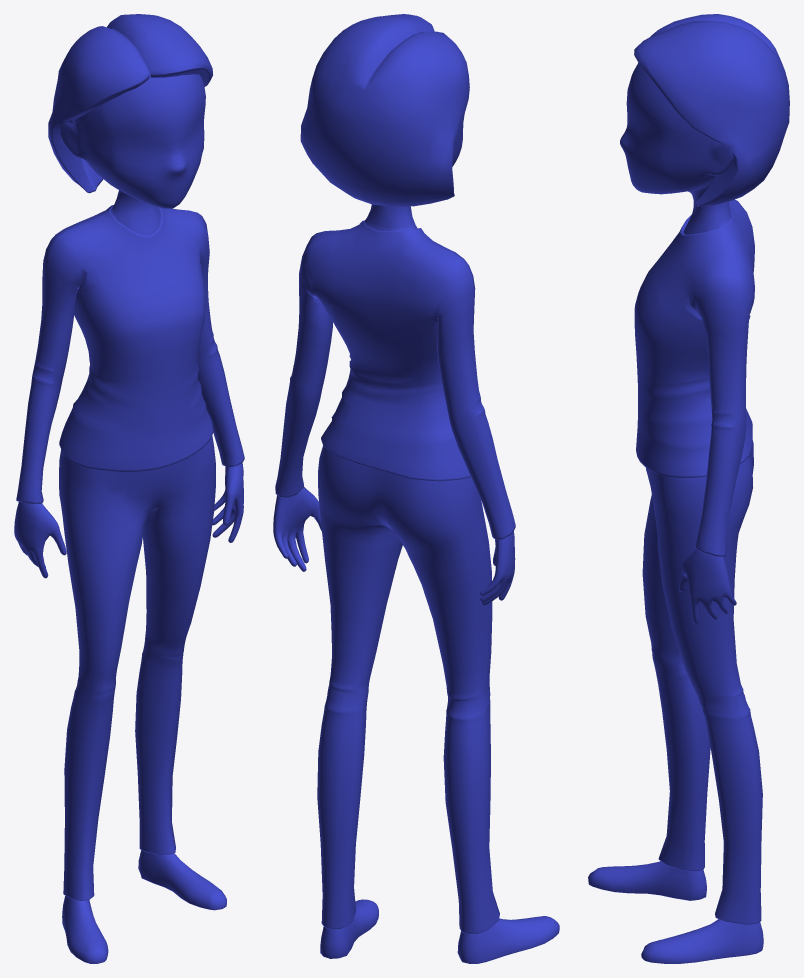
File: Human.fbx
3 renders of one model, left to right at view 1: azimuth 30°, elevation 25°; view 2: azimuth 150°, elevation 25°; view 3: azimuth 270°, elevation 25°, orthographic. The views are drawn at different scales.
Visible parts, largest first — view 1: root; view 2: root; view 3: root.
Part boxes in pixels (bbox=[...]): root: bbox=[14, 14, 244, 963]; root: bbox=[273, 14, 559, 963]; root: bbox=[588, 14, 789, 963].
Size of the model in its own units: 0.0962 by 0.3598 by 0.0724.
